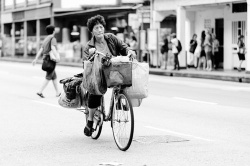female: (80, 10, 112, 46)
